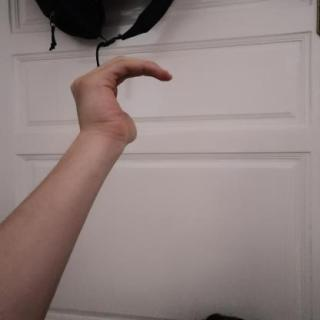HAA: (60, 48, 182, 150)
